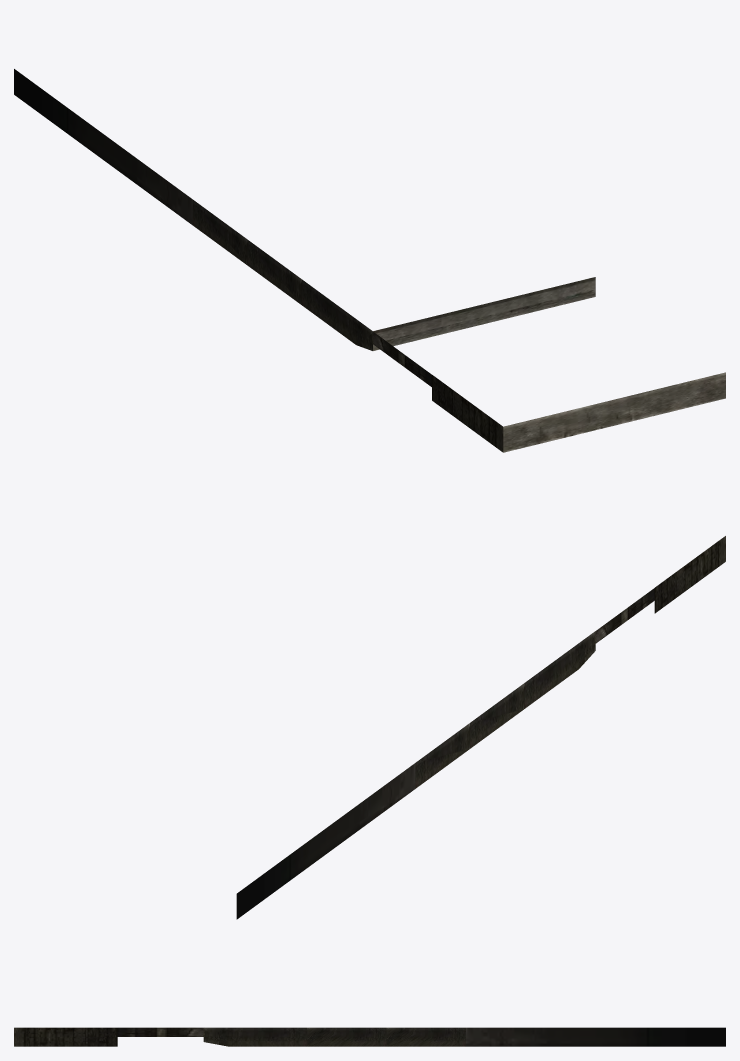
3 renders of one model, top to bottom at view 1: azimuth 30°, elevation 25°; view 2: azimuth 150°, elevation 25°; view 3: azimuth 270°, elevation 25°, orthographic. The views are drawn at different scales.
Parts seen in each view (by area): view 1: model_Object37; view 2: model_Object37; view 3: model_Object37.
Part boxes in pixels (x1,y1,x2,y2): model_Object37: (14,69,725,452); model_Object37: (236,536,725,919); model_Object37: (14,1027,725,1046).
Bounding box in the file's own units: 4.07 × 0.4564 × 15.49.
2 materials, 2 textured.
